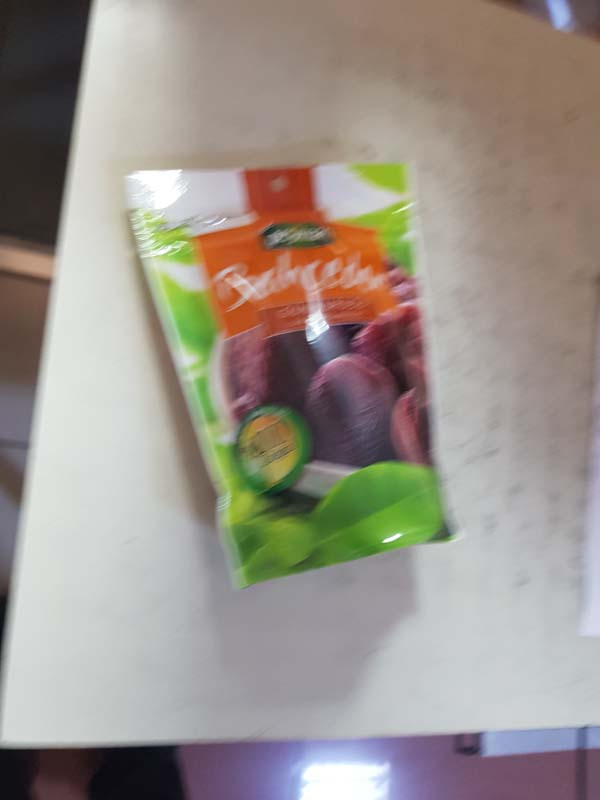bahcedengunkurusu: (117, 149, 471, 585)
